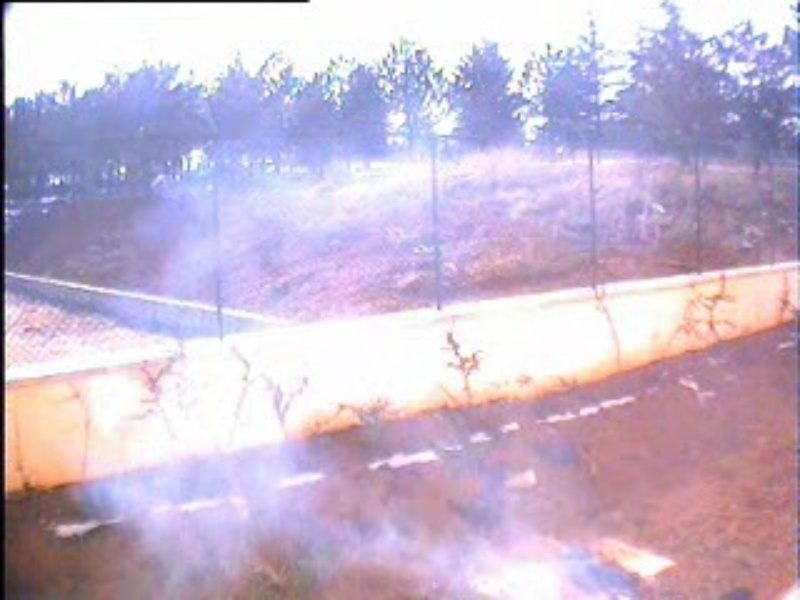smoke: (108, 198, 296, 531)
